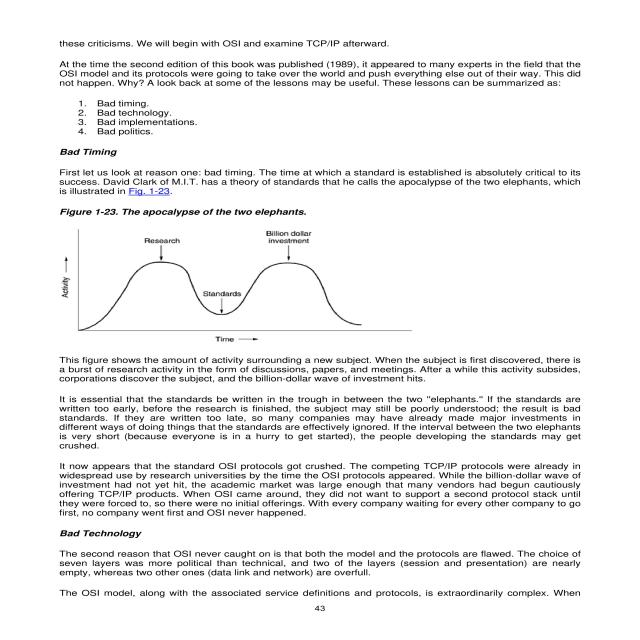diagram: (25, 200, 462, 346)
